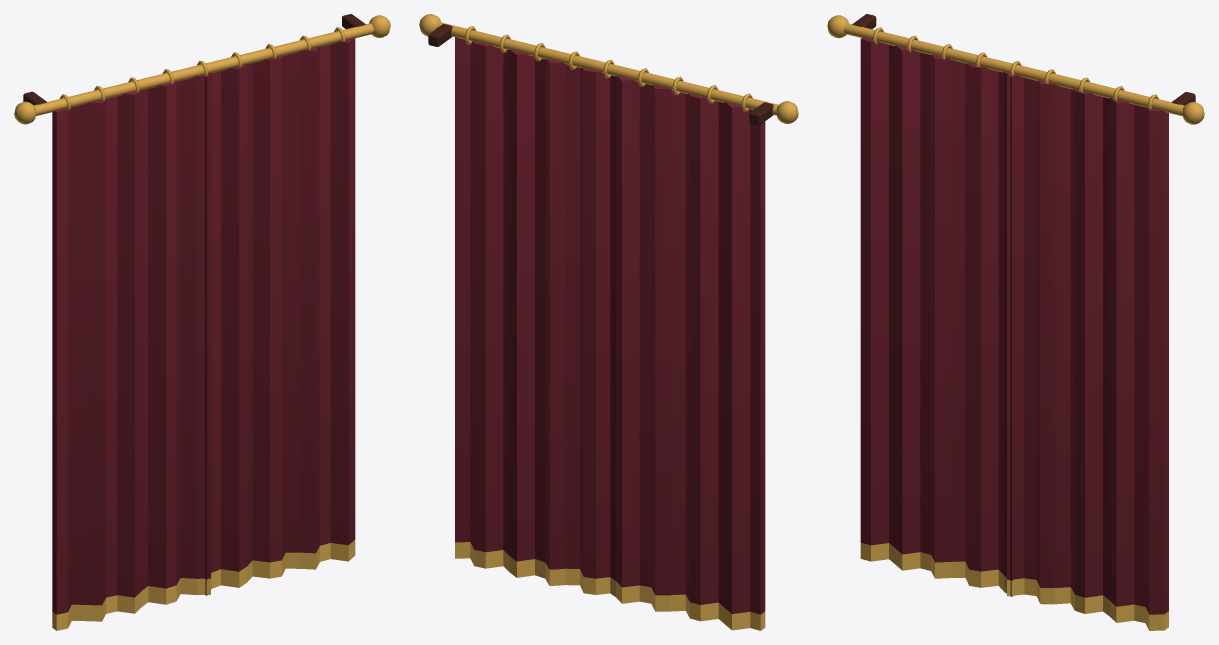
File: door-curtain.glb
3 views of the same model, side by side, from view 1: azimuth 30°, elevation 25°; view 2: azimuth 150°, elevation 25°; view 3: azimuth 330°, elevation 25° (orthographic).
Visible parts, largest first — view 1: door-curtain; view 2: door-curtain; view 3: door-curtain.
Boxes of the visible parts, bbox=[...] form: door-curtain: bbox=[14, 14, 390, 630]; door-curtain: bbox=[419, 14, 798, 630]; door-curtain: bbox=[827, 14, 1204, 630].
Size of the model in its own units: 1.69 by 2.3 by 0.1723.
